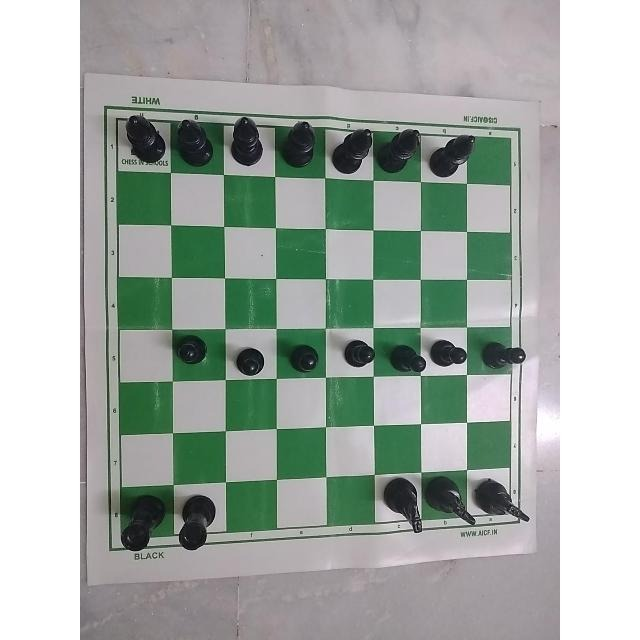black-bishop: (429, 111, 483, 186), (380, 110, 425, 188), (121, 103, 167, 171), (221, 107, 267, 175), (337, 102, 373, 180), (171, 112, 213, 178), (281, 104, 318, 172)
black-knight: (475, 473, 532, 549), (430, 472, 474, 556), (380, 473, 422, 555)
black-pawn: (479, 331, 525, 379), (432, 327, 472, 381), (389, 327, 425, 383), (285, 333, 321, 387), (231, 340, 267, 388), (171, 329, 210, 370), (343, 330, 379, 374)
black-rook: (109, 489, 167, 565), (174, 488, 228, 561)
